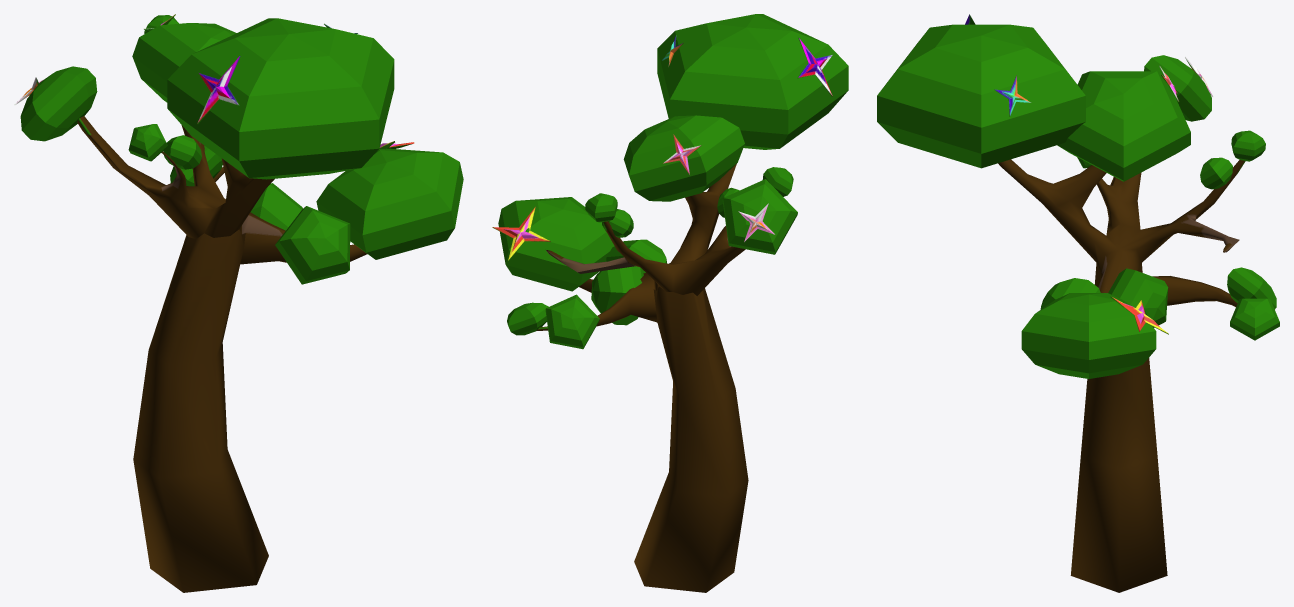
Rendered from poisoned_apple2.fbx.
The picture shows the model from 3 angles, left to right: view 1: azimuth 30°, elevation 25°; view 2: azimuth 150°, elevation 25°; view 3: azimuth 270°, elevation 25°; orthographic projection. The views are drawn at different scales.
Parts seen in each view (by area): view 1: pSphere19; view 2: pSphere19; view 3: pSphere19.
Part boxes in pixels (x1,y1,x2,y2): pSphere19: [14, 14, 463, 592]; pSphere19: [492, 14, 848, 592]; pSphere19: [877, 14, 1279, 592].
Bounding box in the file's own units: 1.68 × 2.42 × 1.66.
Materials: 1 (1 with a texture image).
